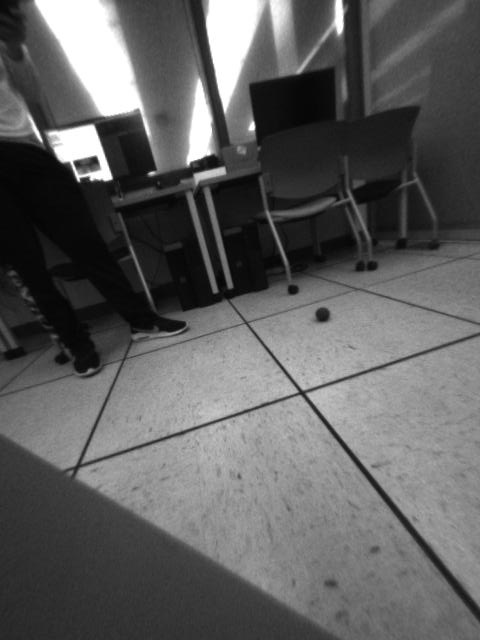dogtoy: (309, 298, 337, 329)
